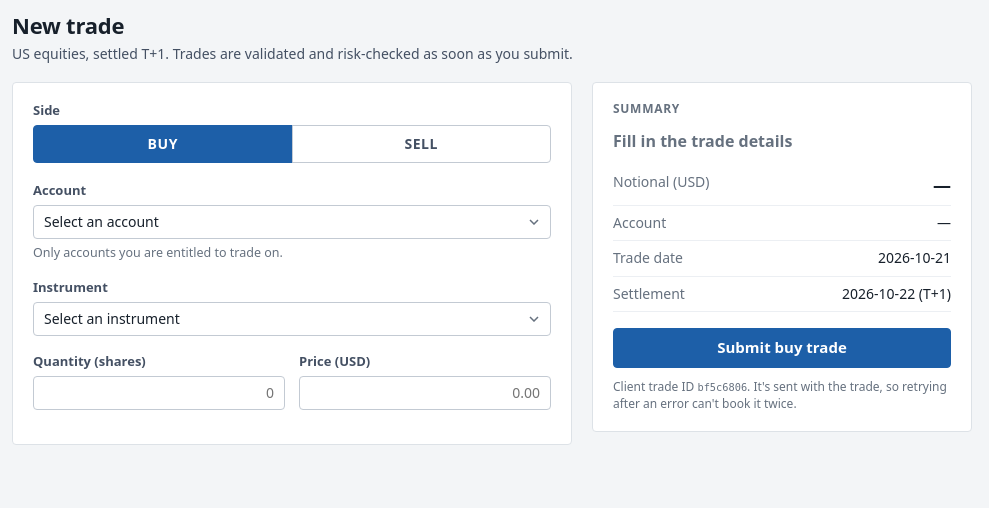
Test: new trade form › accepts a shorthand price like .5
This screenshot has width=989, height=508.
Select "ACC-1001 · Harbor Growth Fund" in the dropdown labelled "Account" at (292,222), box [33, 205, 551, 239]
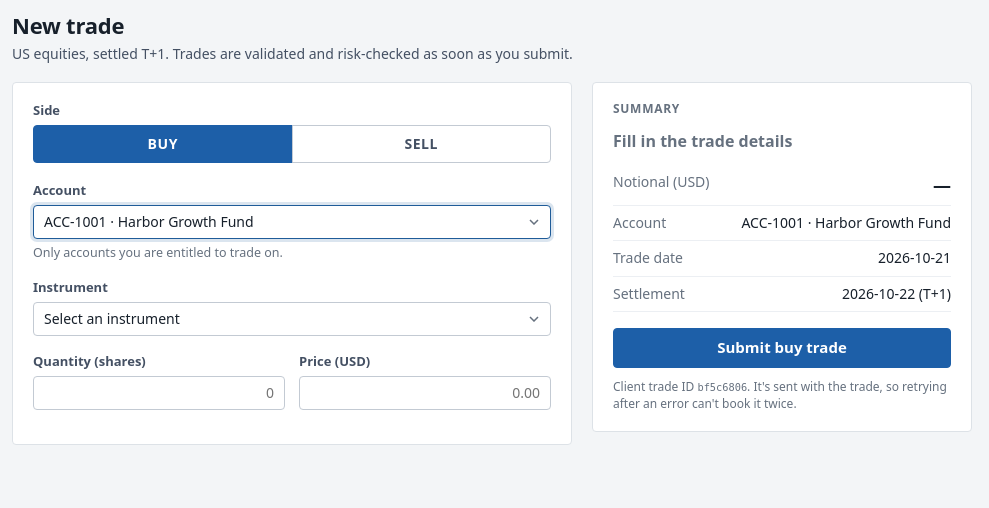
Select "AAPL · Apple Inc." in the dropdown labelled "Instrument" at (292,319), box [33, 302, 551, 336]
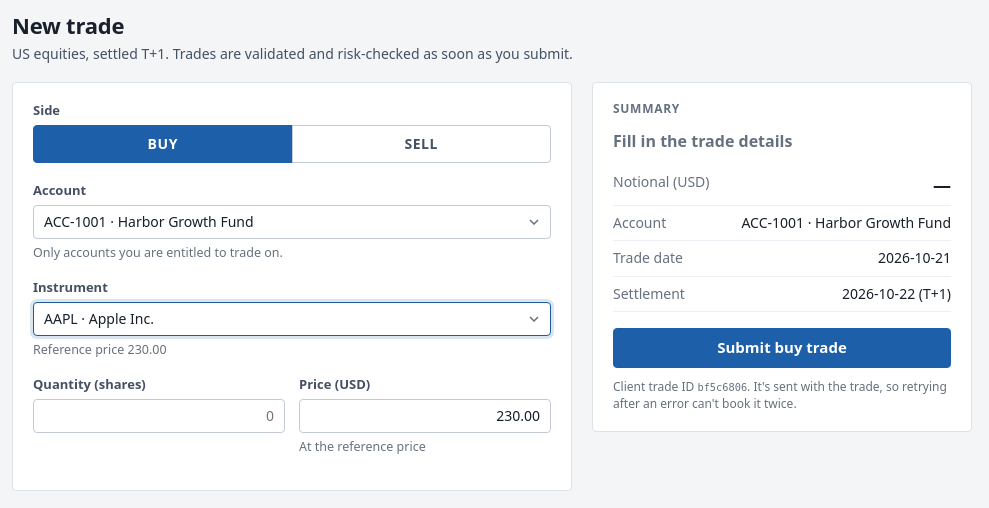
Type "1,000" into the field labelled "Quantity (shares)".
click(159, 416); type("1,000")  # box [33, 399, 285, 433]
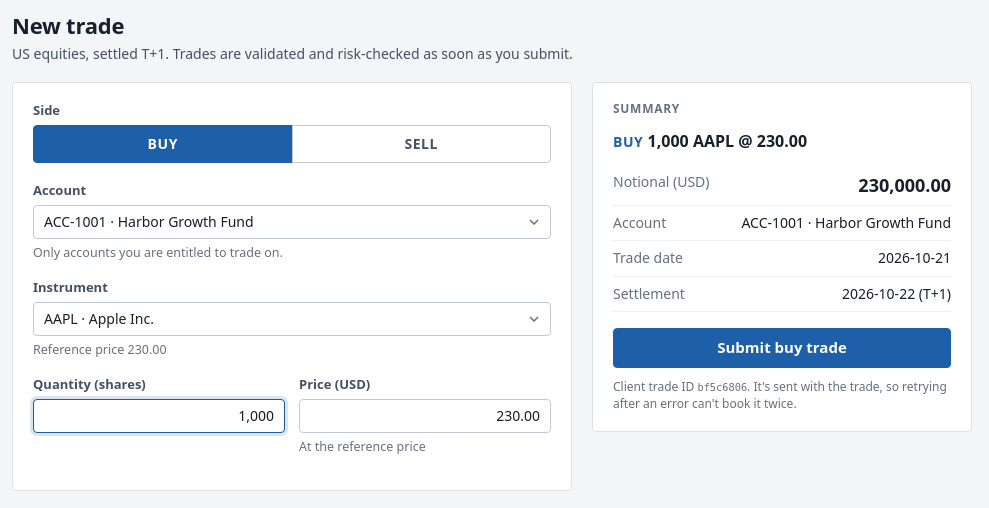
Replace the text in the field labelled "Price (USD)" with ".5" at (425,416), box [299, 399, 551, 433]
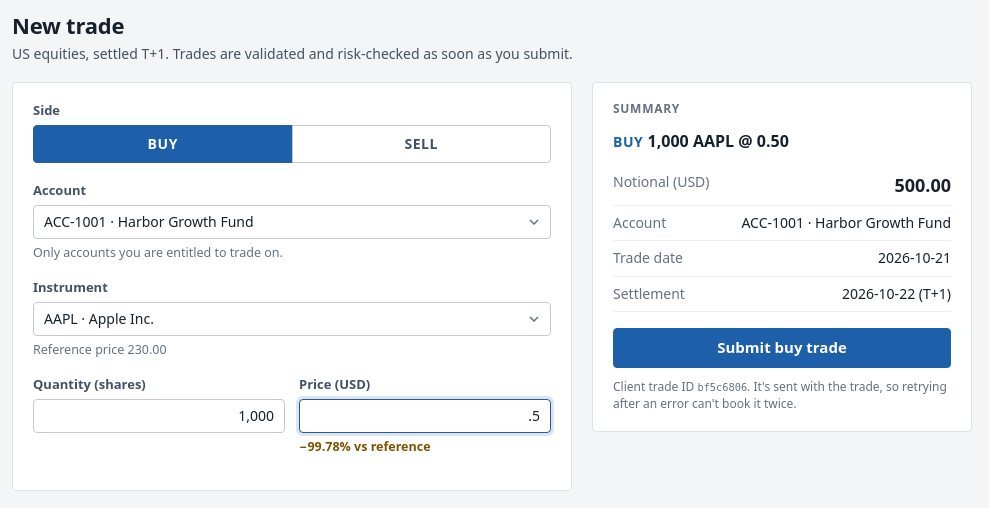
expect the text "500.00" is shown: met, box [894, 172, 951, 198]
Click the button "Submit buy trade".
click(782, 348)  # box [613, 328, 951, 368]
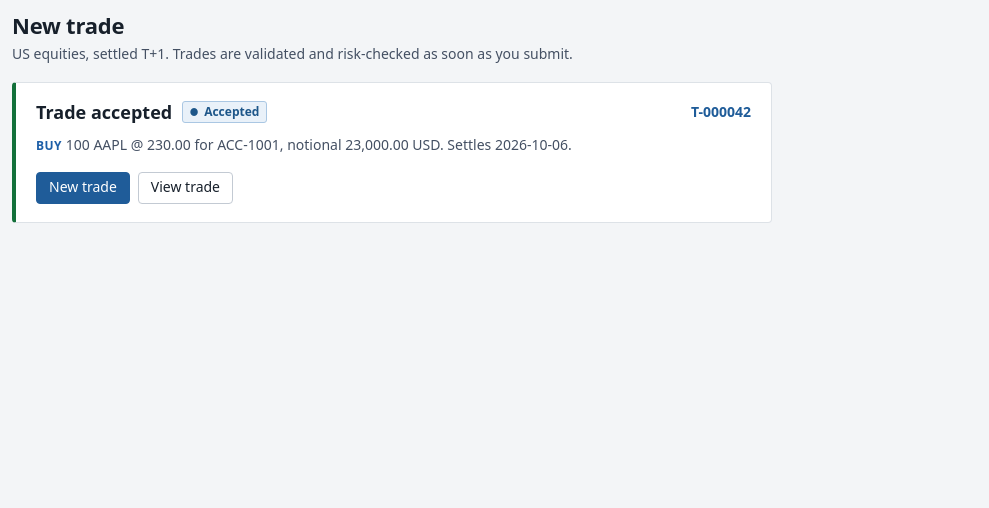
expect the heading "Trade accepted" is shown: met, box [36, 101, 172, 123]
